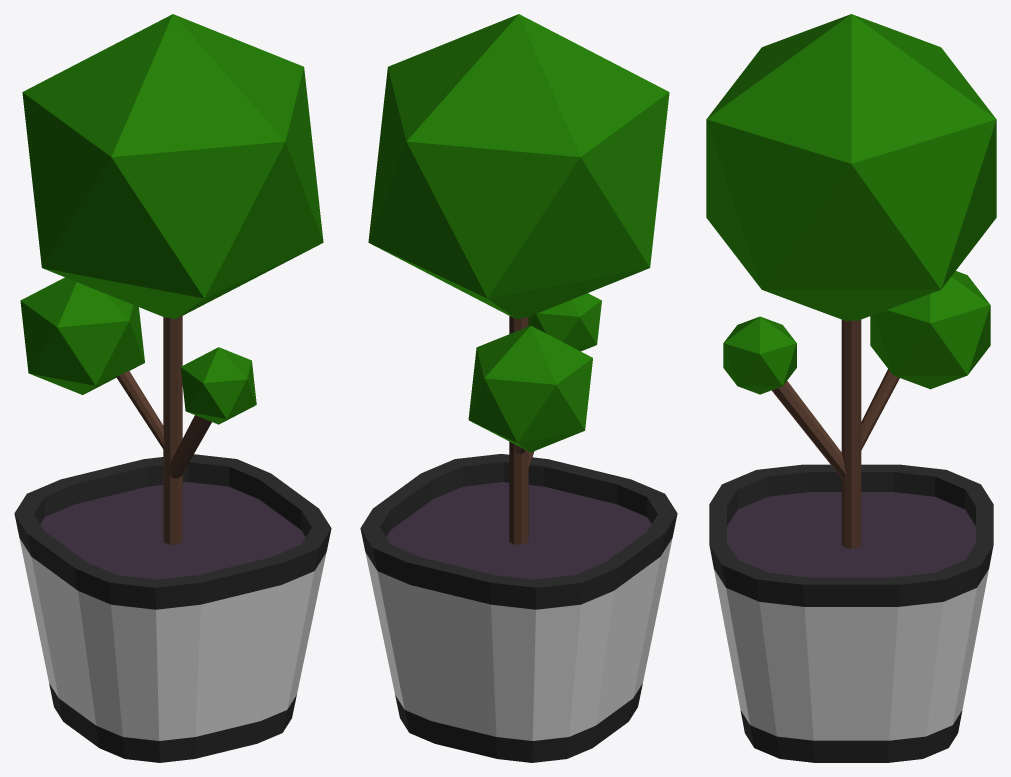
File: Tree.fbx
3 renders of one model, left to right at view 1: azimuth 30°, elevation 25°; view 2: azimuth 150°, elevation 25°; view 3: azimuth 270°, elevation 25°, orthographic.
Parts seen in each view (by area): view 1: Küp.057; view 2: Küp.057; view 3: Küp.057.
Part boxes in pixels (left/top/right/bottom): Küp.057: left=14, top=14, right=331, bottom=762; Küp.057: left=360, top=14, right=677, bottom=762; Küp.057: left=706, top=14, right=996, bottom=762.
Size of the model in its own units: 112 by 286 by 107.
